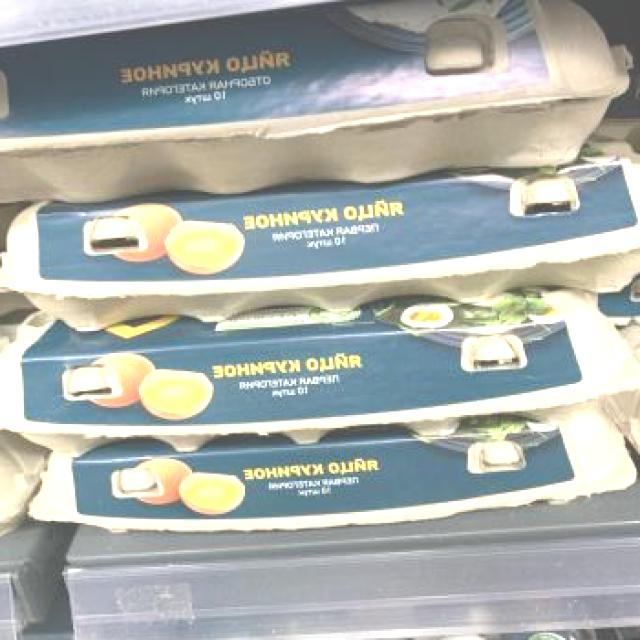egg: (0, 0, 640, 238), (0, 132, 640, 364), (0, 258, 640, 484), (24, 386, 640, 560)
